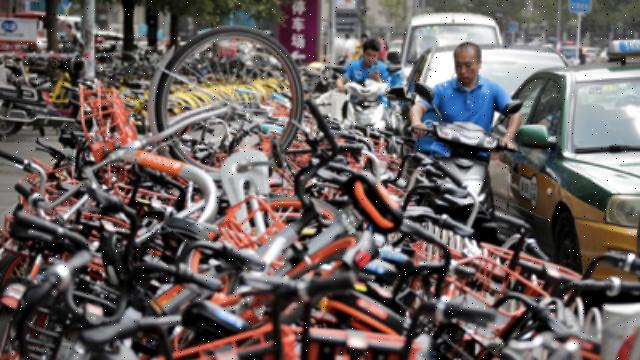Without Helmet: (452, 40, 488, 86), (358, 32, 382, 68)
